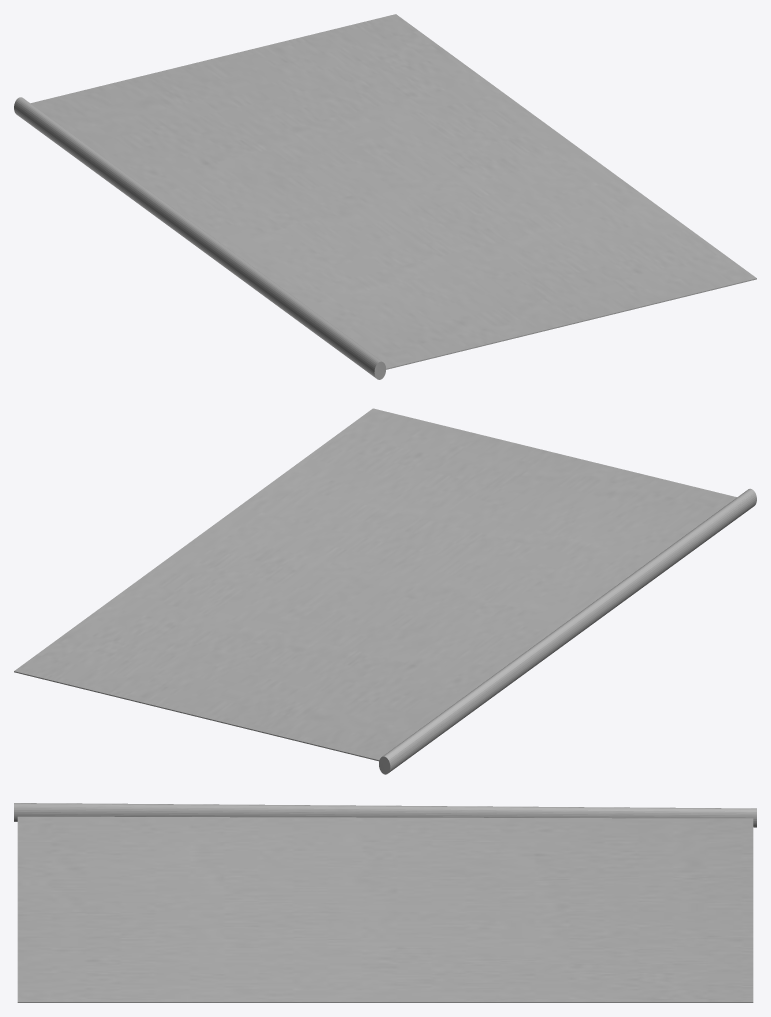
Rendered from portfolioBack.gltf.
The picture shows the model from 3 angles, top to bottom: view 1: azimuth 30°, elevation 25°; view 2: azimuth 150°, elevation 25°; view 3: azimuth 270°, elevation 25°; orthographic projection. The views are drawn at different scales.
Visible parts, largest first — view 1: botom, Cylinder; view 2: botom, Cylinder; view 3: botom, Cylinder.
Boxes of the visible parts, x1=… form: botom: x1=30, y1=14, x2=756, y2=369; Cylinder: x1=14, y1=97, x2=385, y2=379; botom: x1=14, y1=408, x2=736, y2=761; Cylinder: x1=379, y1=488, x2=756, y2=774; botom: x1=17, y1=816, x2=753, y2=1002; Cylinder: x1=14, y1=803, x2=756, y2=827.
Bounding box in the file's own units: 1.23 × 0.0652 × 2.02.
Materials: 1 (1 with a texture image).
